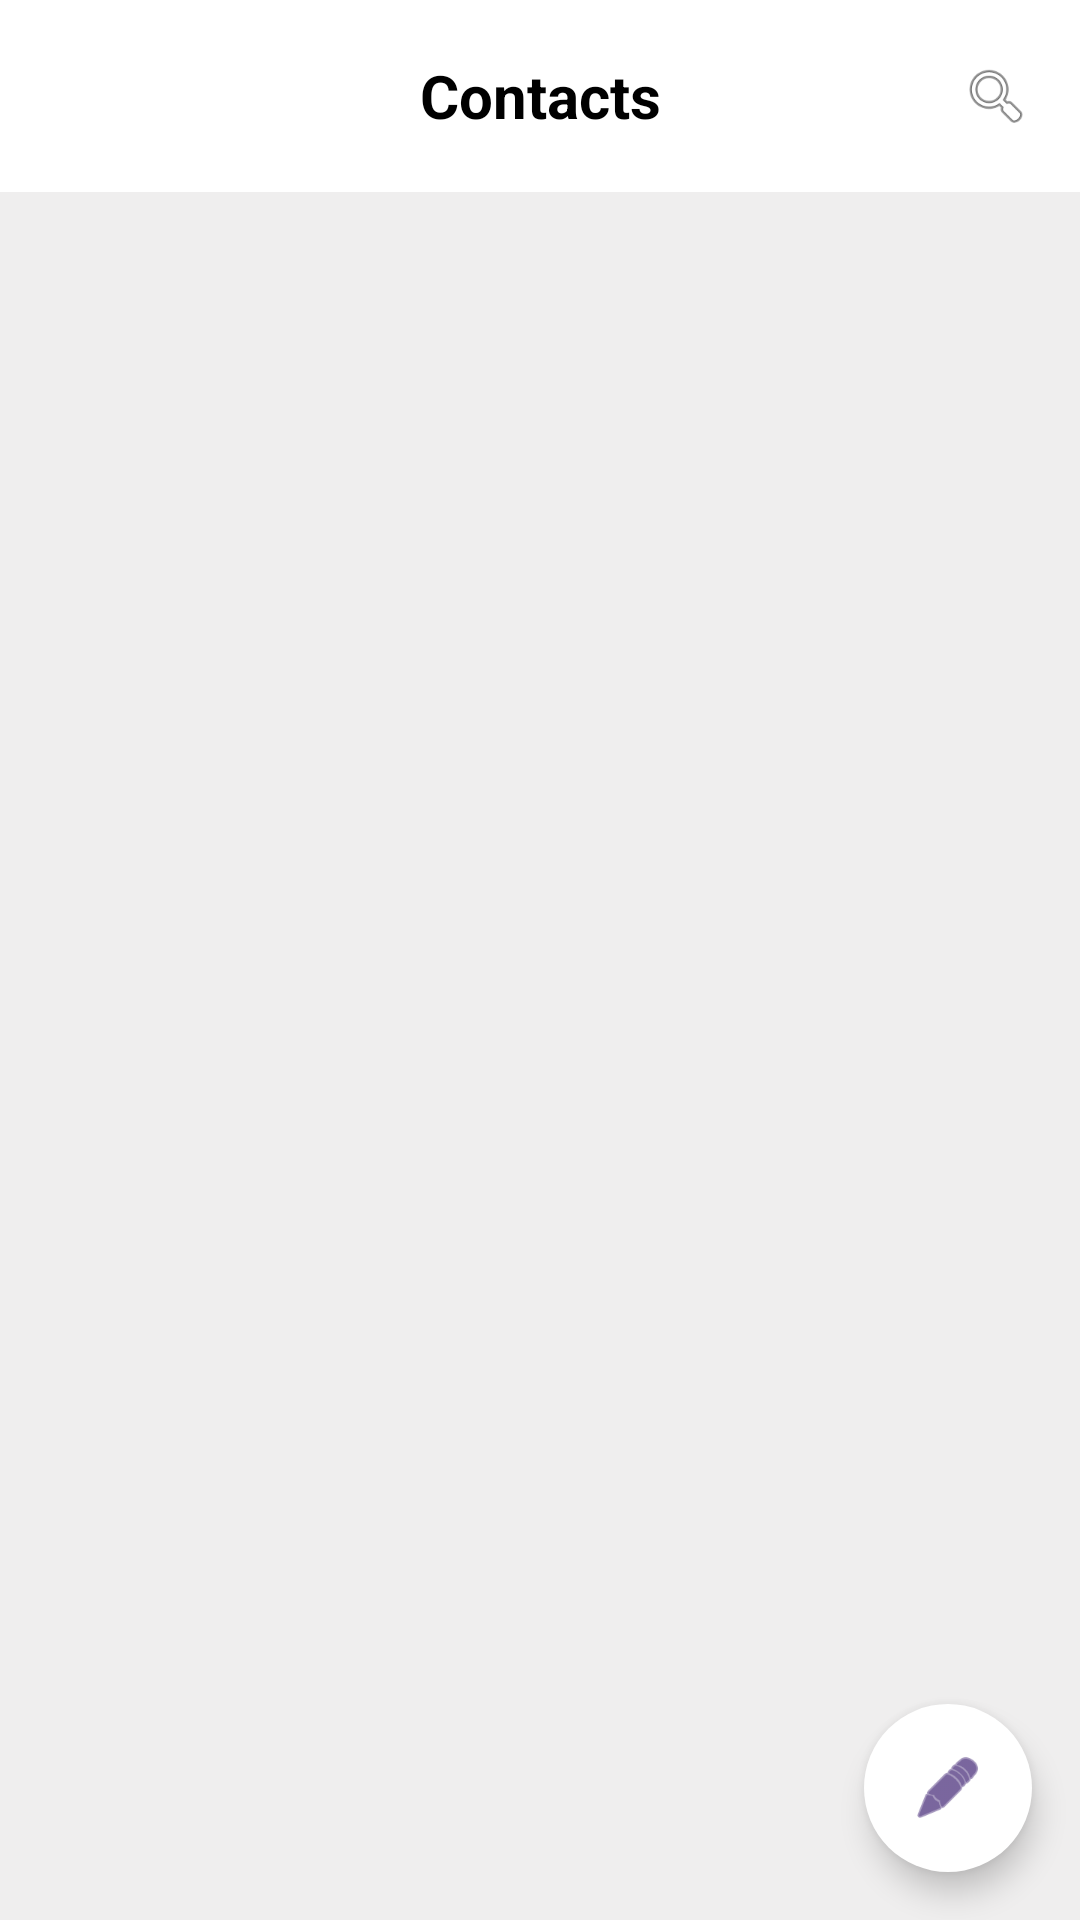

Icon bounding boxes for this 1080×1920 phone screenshot, format (x1=x1, y1=y1, x2=x2, y2=y2):
Edit contacts: (x1=864, y1=1704, x2=1032, y2=1872)
Search Icon: (x1=969, y1=70, x2=1023, y2=123)
